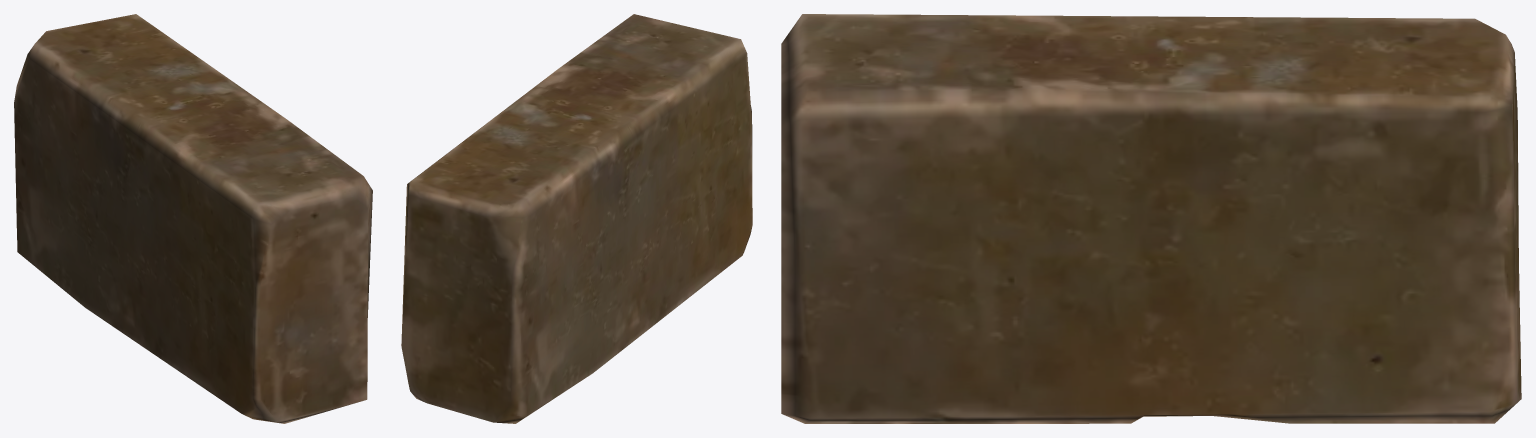
3 renders of one model, left to right at view 1: azimuth 30°, elevation 25°; view 2: azimuth 150°, elevation 25°; view 3: azimuth 270°, elevation 25°, orthographic. The views are drawn at different scales.
Parts seen in each view (by area): view 1: SM_DK_Brick_06_LOD0; view 2: SM_DK_Brick_06_LOD0; view 3: SM_DK_Brick_06_LOD0.
Boxes of the visible parts, box(x1,y1,x2,y2) form: SM_DK_Brick_06_LOD0: box(14, 14, 372, 423); SM_DK_Brick_06_LOD0: box(401, 14, 752, 423); SM_DK_Brick_06_LOD0: box(781, 14, 1521, 423).
Size of the model in its own units: 0.7976 by 1.37 by 2.7.
Materials: 1 (1 with a texture image).
